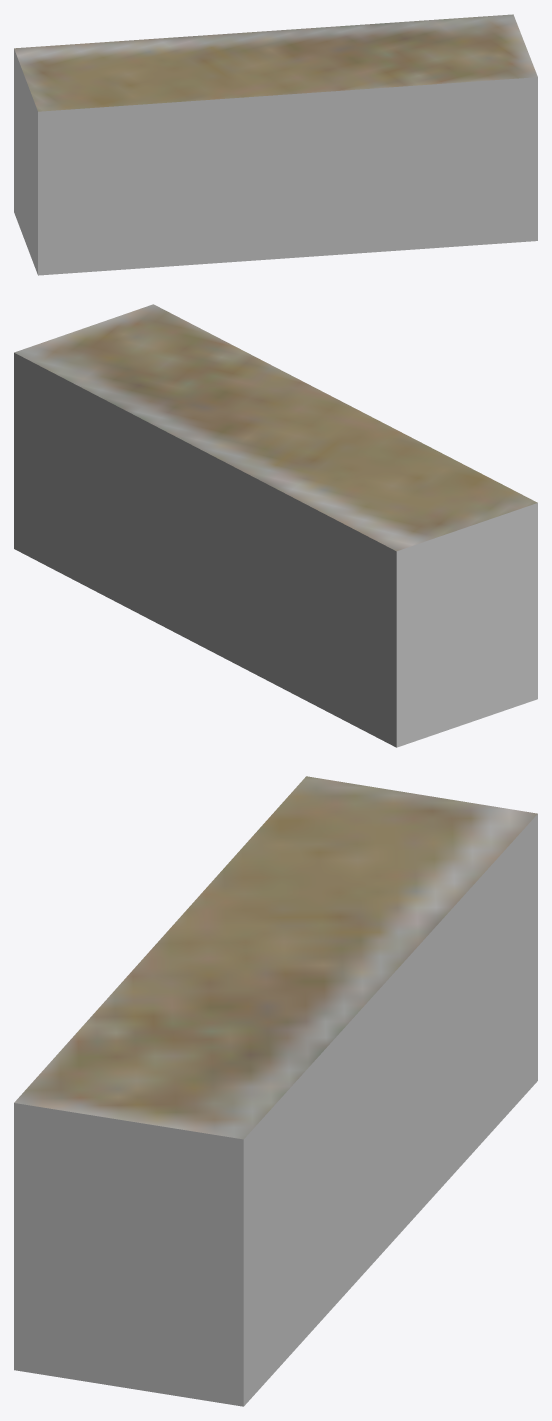
File: DEBW_0010007TxfA.gltf
3 renders of one model, top to bottom at view 1: azimuth 30°, elevation 25°; view 2: azimuth 150°, elevation 25°; view 3: azimuth 270°, elevation 25°, orthographic. The views are drawn at different scales.
Parts seen in each view (by area): view 1: Z_UP; view 2: Z_UP; view 3: Z_UP.
Boxes of the visible parts, x1,y1,x2,y2 form: Z_UP: (14,14,537,275); Z_UP: (14,304,537,747); Z_UP: (14,776,537,1406).
Size of the model in its own units: 8.94 by 3.07 by 5.45.
Materials: 2 (1 with a texture image).
